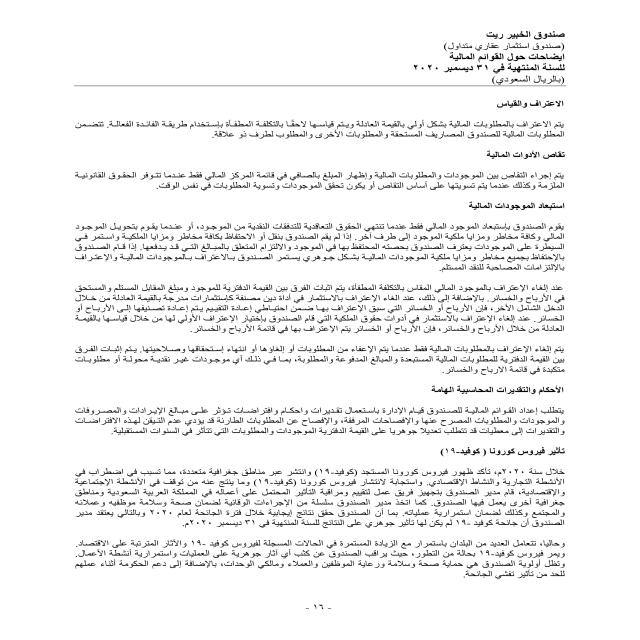notes: (442, 53, 567, 66)
text: (44, 94, 568, 578)
